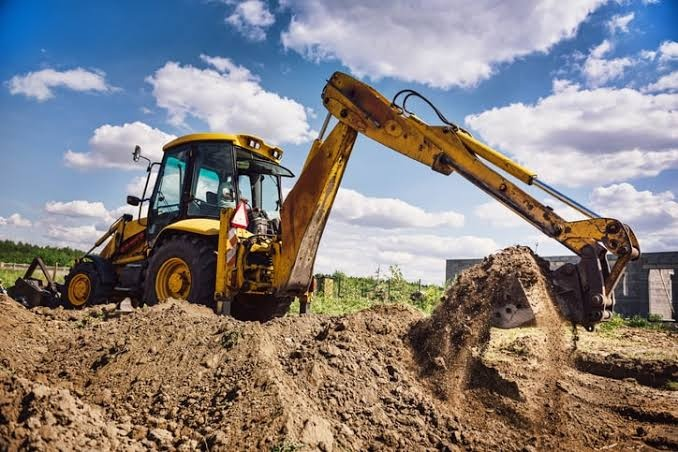excavator: (64, 71, 648, 366)
